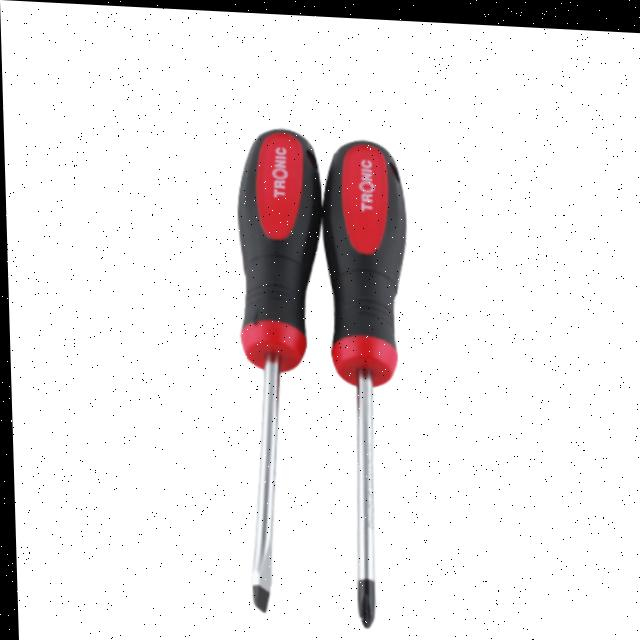Screwdriver: (237, 126, 321, 609), (322, 137, 405, 622)
